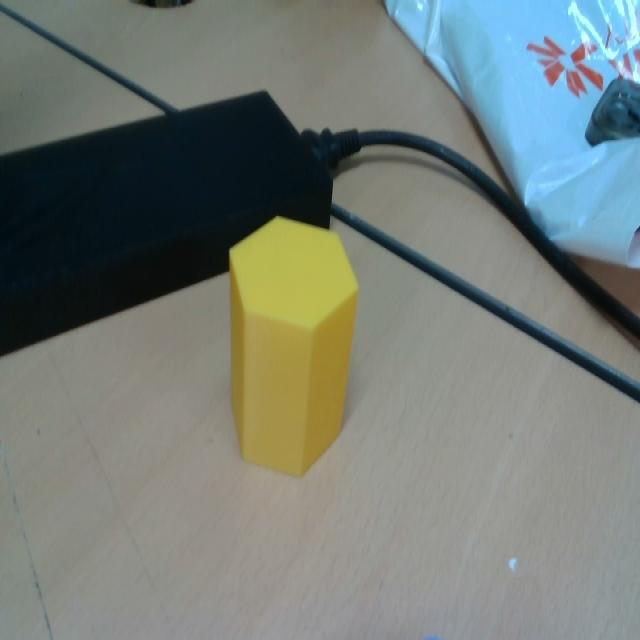hexagon: (230, 217, 358, 475)
